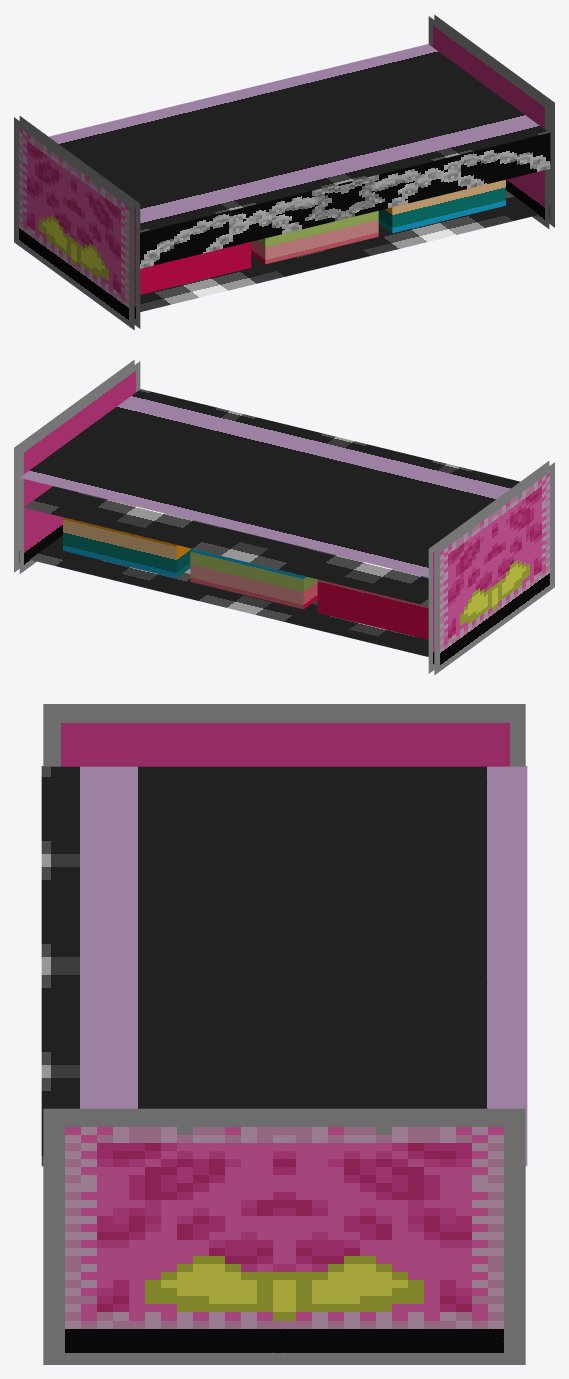
3 renders of one model, top to bottom at view 1: azimuth 30°, elevation 25°; view 2: azimuth 150°, elevation 25°; view 3: azimuth 270°, elevation 25°, orthographic. The views are drawn at different scales.
Visible parts, largest first — view 1: 3639kg_case_06; view 2: 3639kg_case_06; view 3: 3639kg_case_06.
Boxes of the visible parts, x1,y1,x2,y2 form: 3639kg_case_06: [14, 14, 554, 330]; 3639kg_case_06: [14, 359, 554, 675]; 3639kg_case_06: [41, 704, 527, 1364].
Bounding box in the file's own units: 2 × 0.5691 × 1.
Materials: 4 (4 with a texture image).
